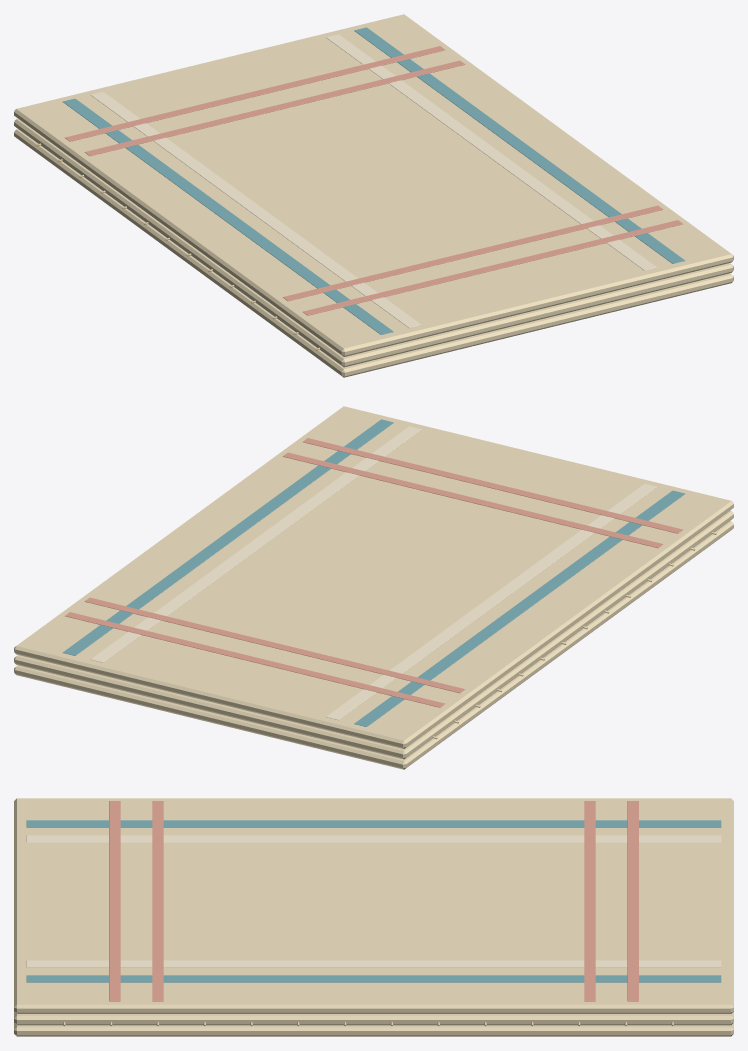
File: couverture.glb
The picture shows the model from 3 angles, top to bottom: view 1: azimuth 30°, elevation 25°; view 2: azimuth 150°, elevation 25°; view 3: azimuth 270°, elevation 25°; orthographic projection. The views are drawn at different scales.
Parts seen in each view (by area): view 1: couverture; view 2: couverture; view 3: couverture.
Part boxes in pixels (x1,y1,x2,y2): couverture: (14,14,733,377); couverture: (14,406,733,769); couverture: (14,798,733,1036).
Size of the model in its own units: 0.7 by 0.05 by 1.
